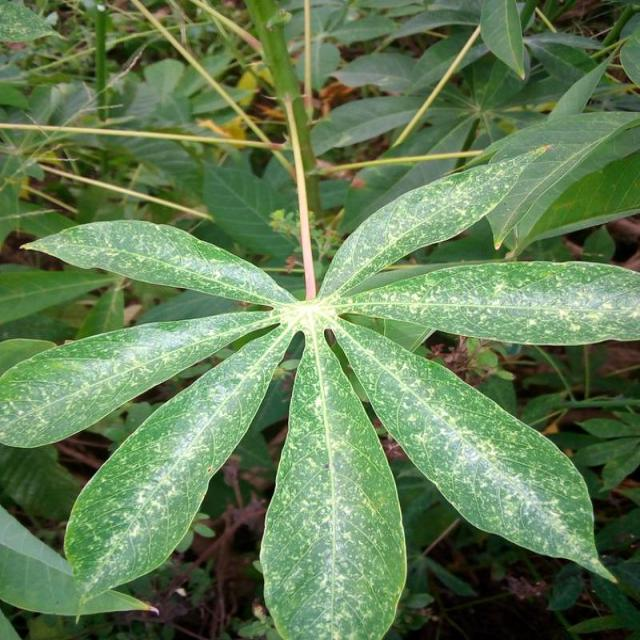cassava leaf: (1, 108, 638, 637), (327, 314, 618, 584), (61, 317, 298, 604), (258, 319, 408, 638)
